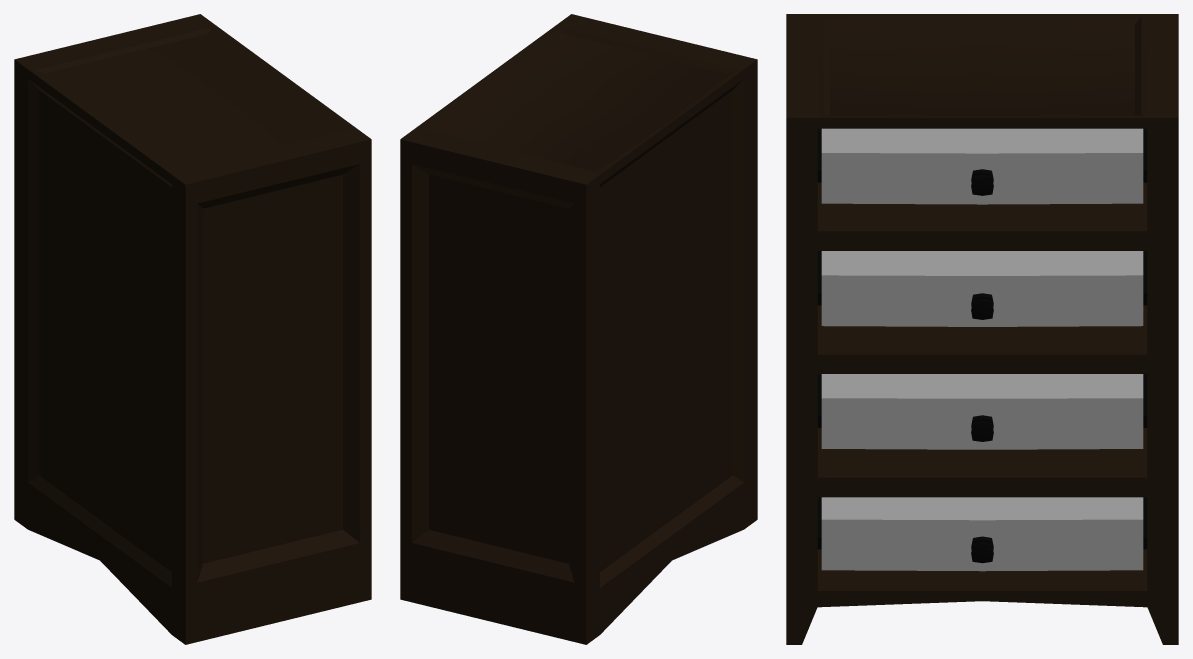
File: drawerCTF.fbx
3 renders of one model, left to right at view 1: azimuth 30°, elevation 25°; view 2: azimuth 150°, elevation 25°; view 3: azimuth 270°, elevation 25°, orthographic. The views are drawn at different scales.
Visible parts, largest first — view 1: cabinent; view 2: cabinent; view 3: cabinent, top drawer, second from top drawer, middle drawer, bottom drawer.
Boxes of the visible parts, <box> form: cabinent: <box>14,14,371,644</box>; cabinent: <box>400,14,757,644</box>; cabinent: <box>786,14,1178,644</box>; top drawer: <box>817,128,1147,204</box>; second from top drawer: <box>817,251,1147,326</box>; middle drawer: <box>817,374,1147,449</box>; bottom drawer: <box>817,497,1147,571</box>.
Bounding box in the file's own units: 91.19 × 201 × 136.
